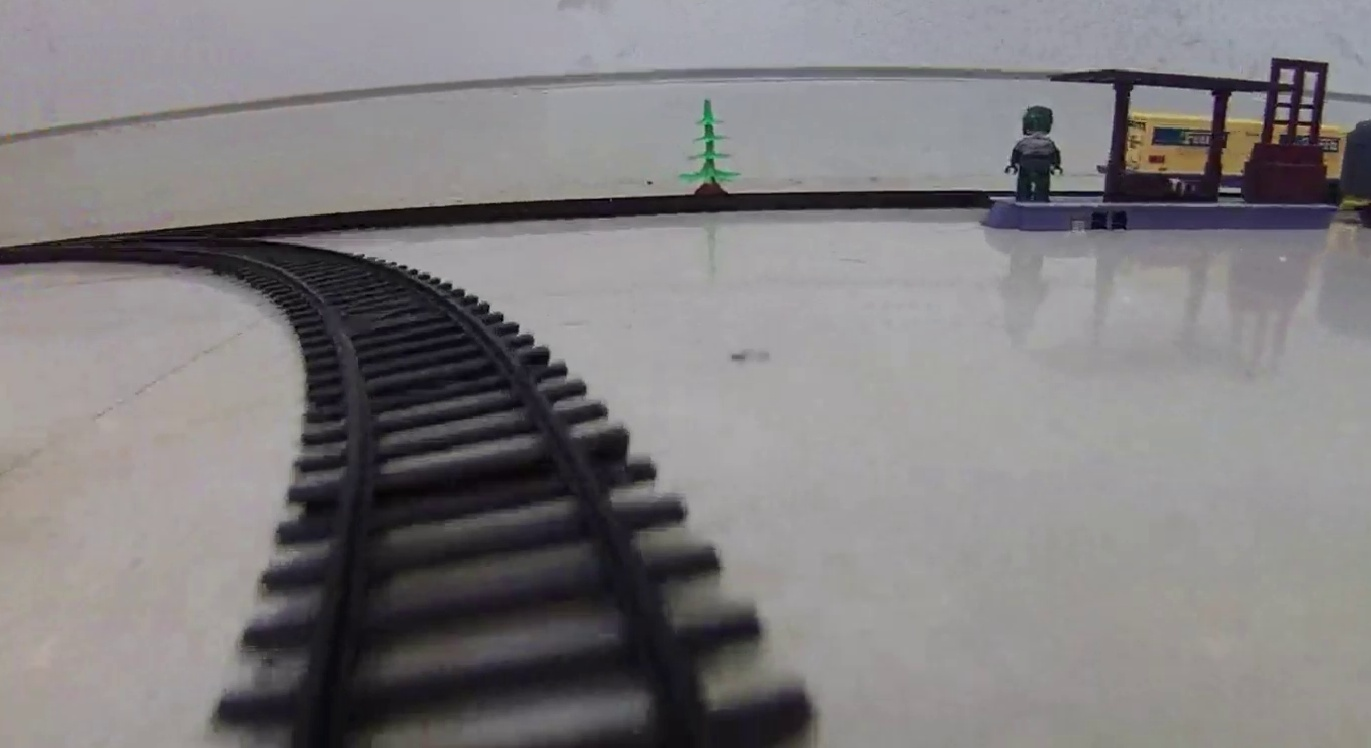people: (1005, 103, 1065, 202)
tree: (676, 97, 745, 196)
